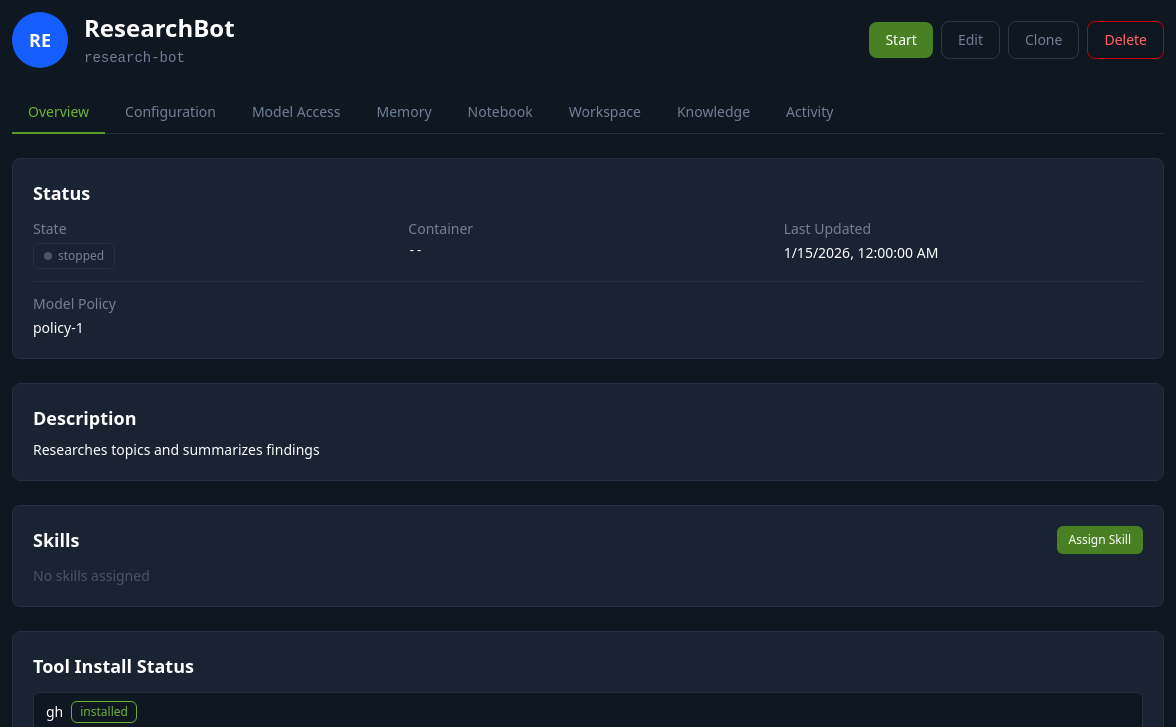
Scenario: AgentDetailClient › Memory tab renders AgentMemory component
Expected: the heading "ResearchBot" is shown, [84,12,235,44]
// Click Memory tab
Click the button "Memory": point(404, 113) [360,92,448,134]
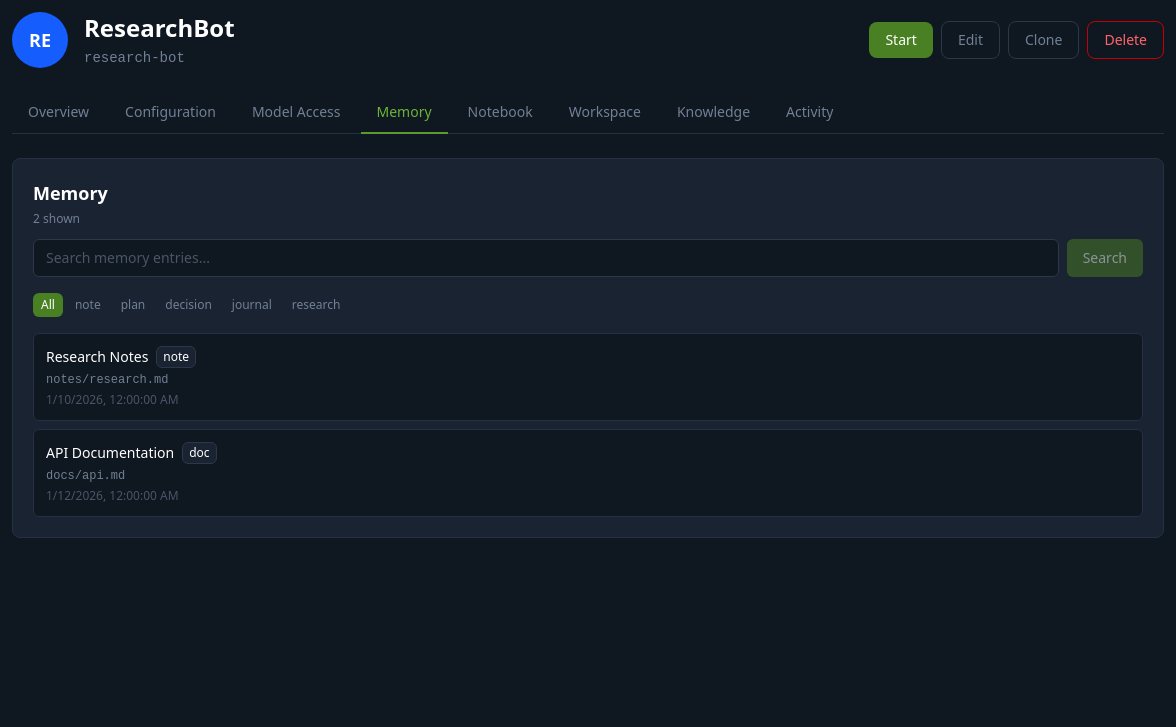
Expected: the field with placeholder "Search memory entries..." is shown, [33,239,1059,277]
